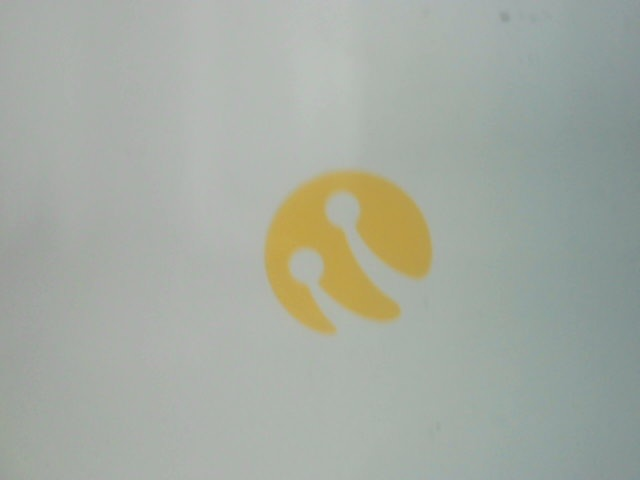AV_H3600Yellow: (250, 166, 444, 337)
